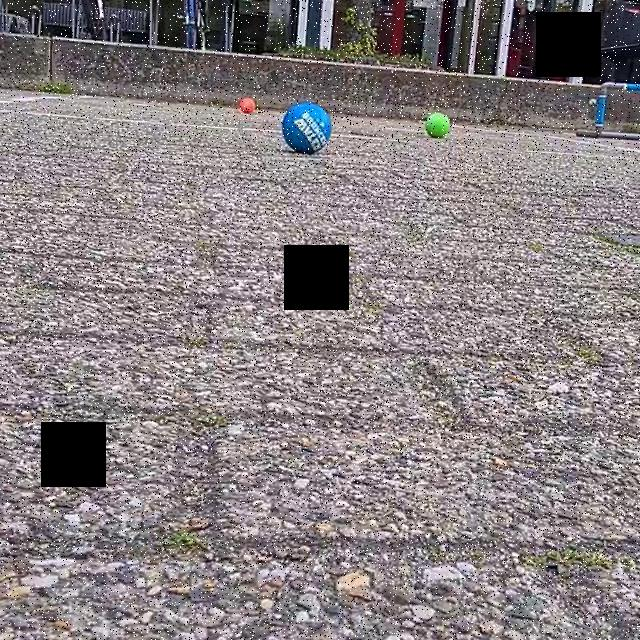ball: (422, 108, 452, 141)
